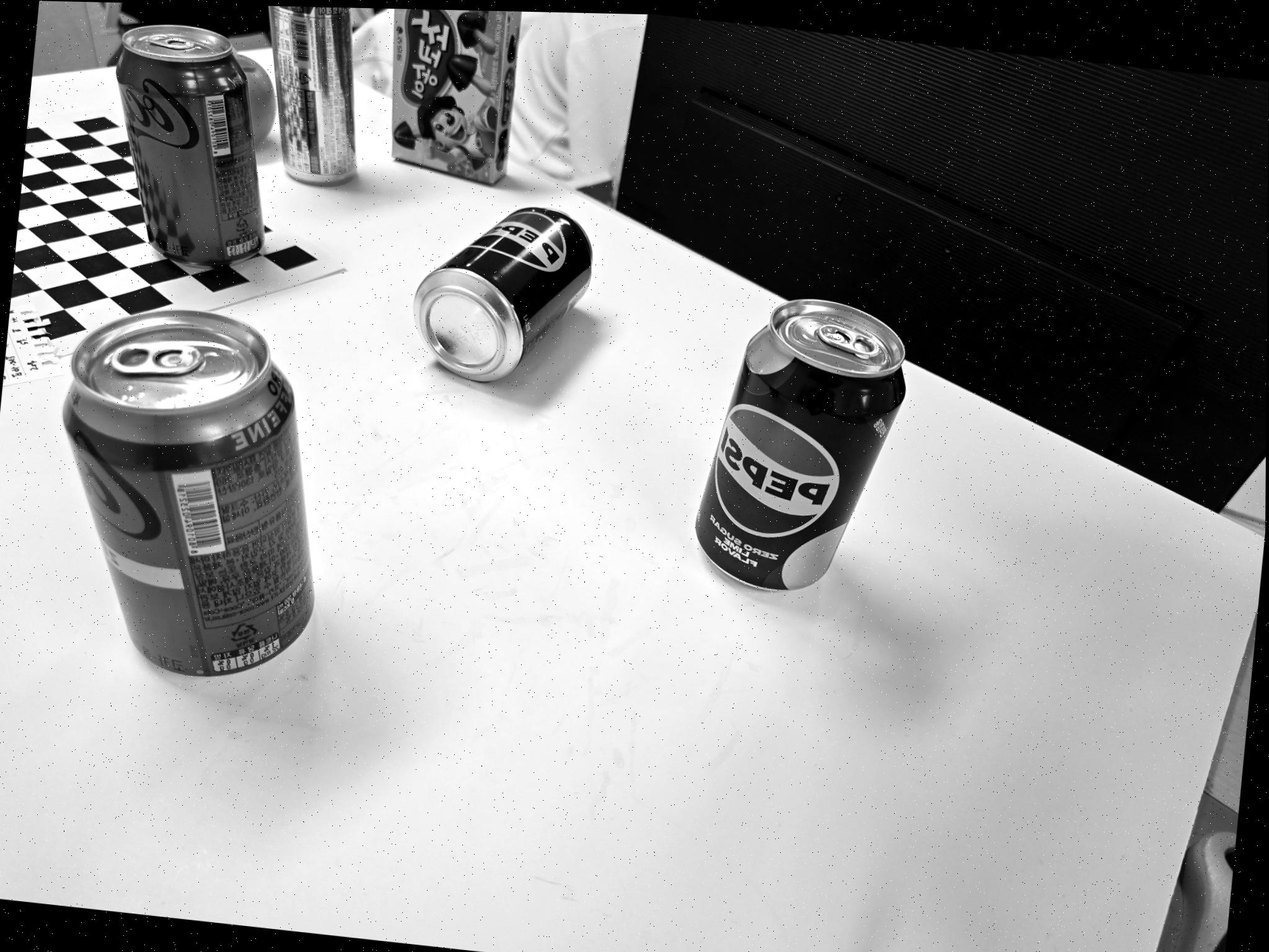can_coke_decaf: (56, 312, 314, 681)
can_coke_zero: (112, 23, 265, 267)
can_pepsi: (417, 203, 592, 382)
can_pepsi_zero: (694, 298, 908, 591)
